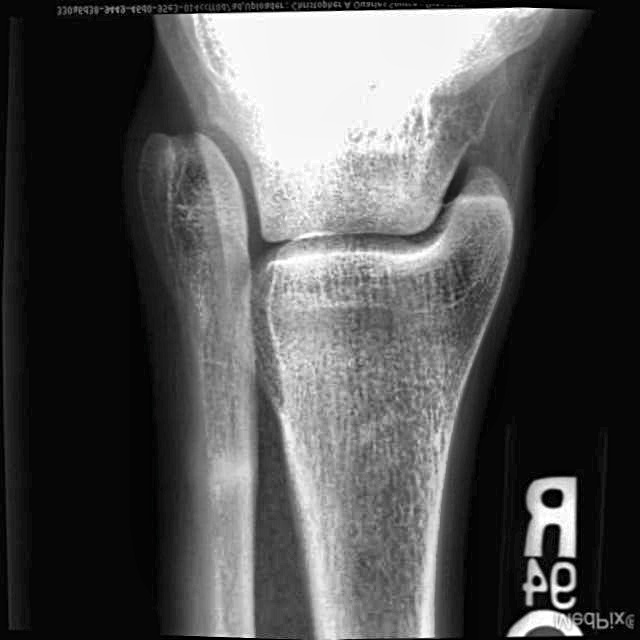Healthy: (101, 62, 540, 614)
